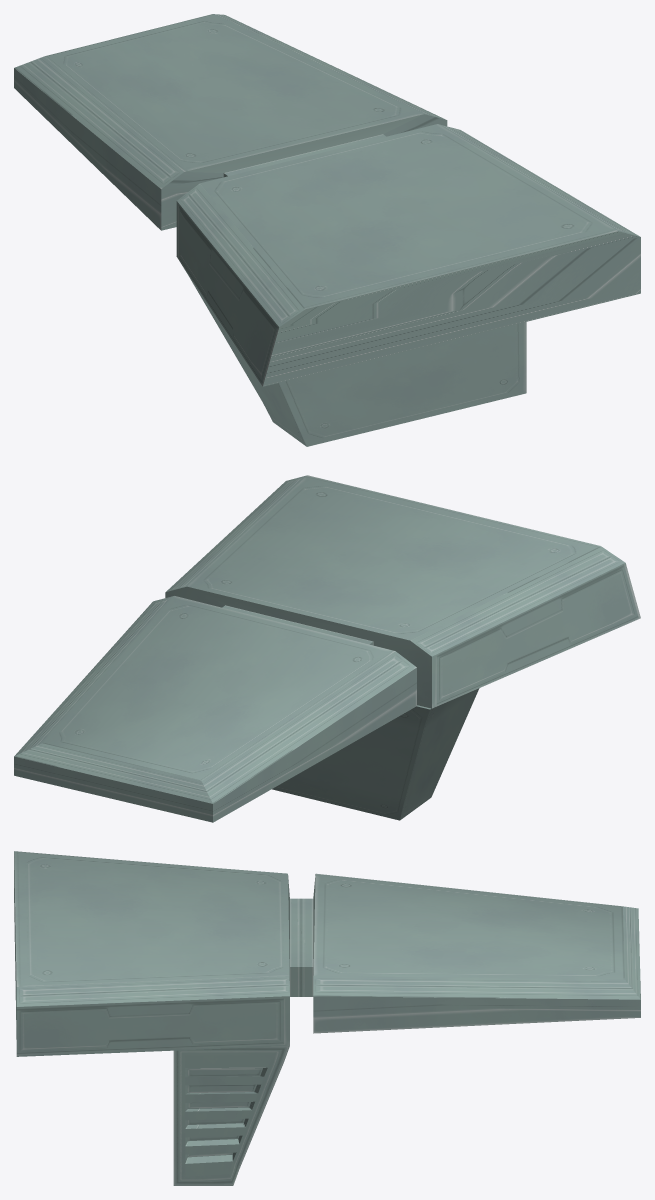
The model's file is SM_A_Ship_Wing_R.fbx.
The picture shows the model from 3 angles, top to bottom: view 1: azimuth 30°, elevation 25°; view 2: azimuth 150°, elevation 25°; view 3: azimuth 270°, elevation 25°; orthographic projection. The views are drawn at different scales.
Visible parts, largest first — view 1: wing_right; view 2: wing_right; view 3: wing_right.
Boxes of the visible parts, x1=… form: wing_right: x1=14, y1=14, x2=640, y2=446; wing_right: x1=14, y1=475, x2=640, y2=822; wing_right: x1=14, y1=851, x2=640, y2=1185.
Size of the model in its own units: 935 by 533 by 1516.
